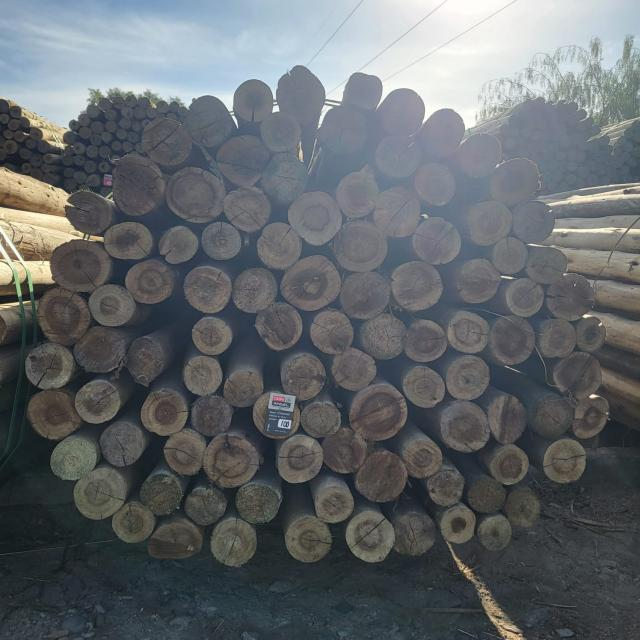package: (26, 68, 606, 568), (63, 96, 189, 195), (502, 99, 612, 200), (2, 97, 64, 190), (612, 117, 640, 189)
